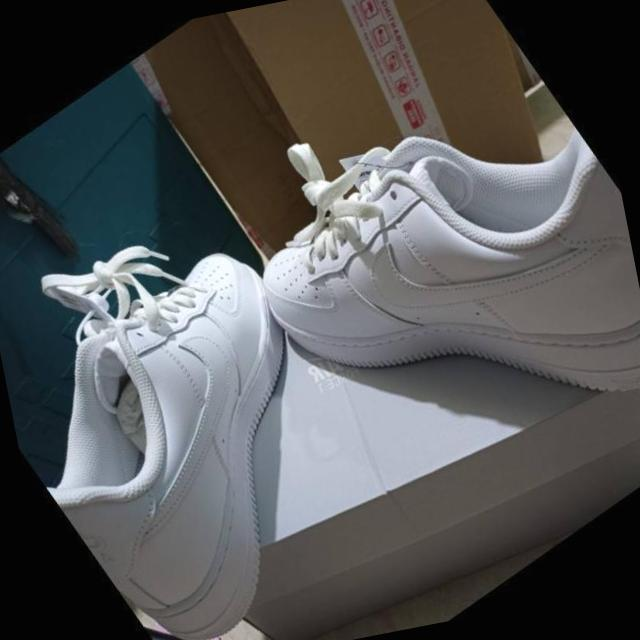nike_original_airforce: (177, 0, 640, 567), (0, 175, 438, 640)
